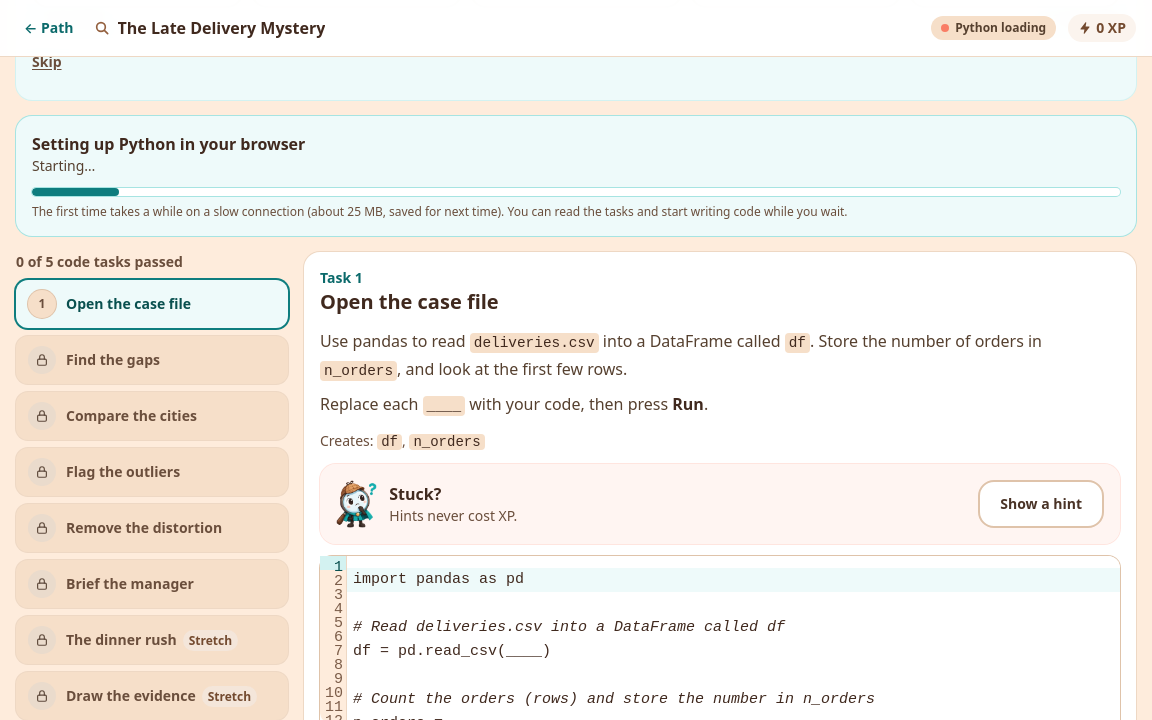
it: MissionWorkspace › keeps later tasks locked until the earlier ones pass
(page scrolled)
Click the button named "find the gaps, locked": (152, 360) 16,336 -> 288,384
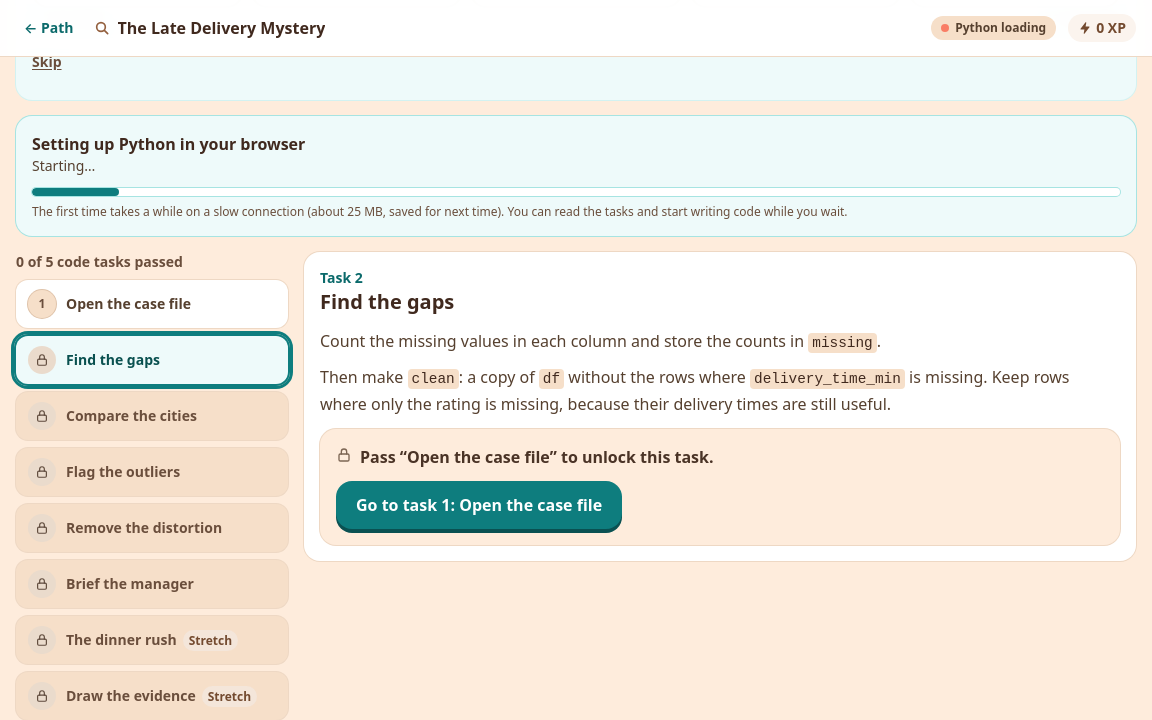
Result: the heading "Find the gaps" is shown at 320,288 -> 454,315
Result: the text "Pass “Open the case file” to unlock this task." is shown at 336,446 -> 714,468
Result: the text "Run" is gone
Click the button "Brief the manager": (152, 584) 16,560 -> 288,608
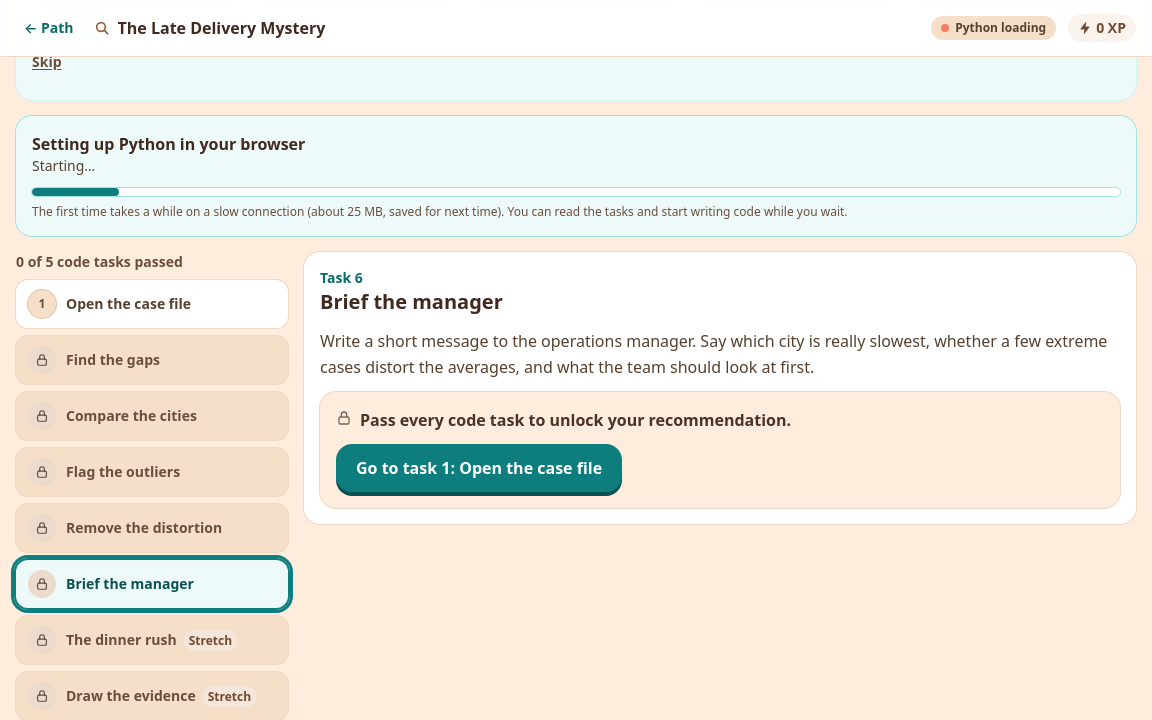
Result: the text "Pass every code task to unlock your recommendation." is shown at 336,409 -> 791,431
Click the button "Go to task 1: Open the case file": (479, 468) 336,444 -> 622,492
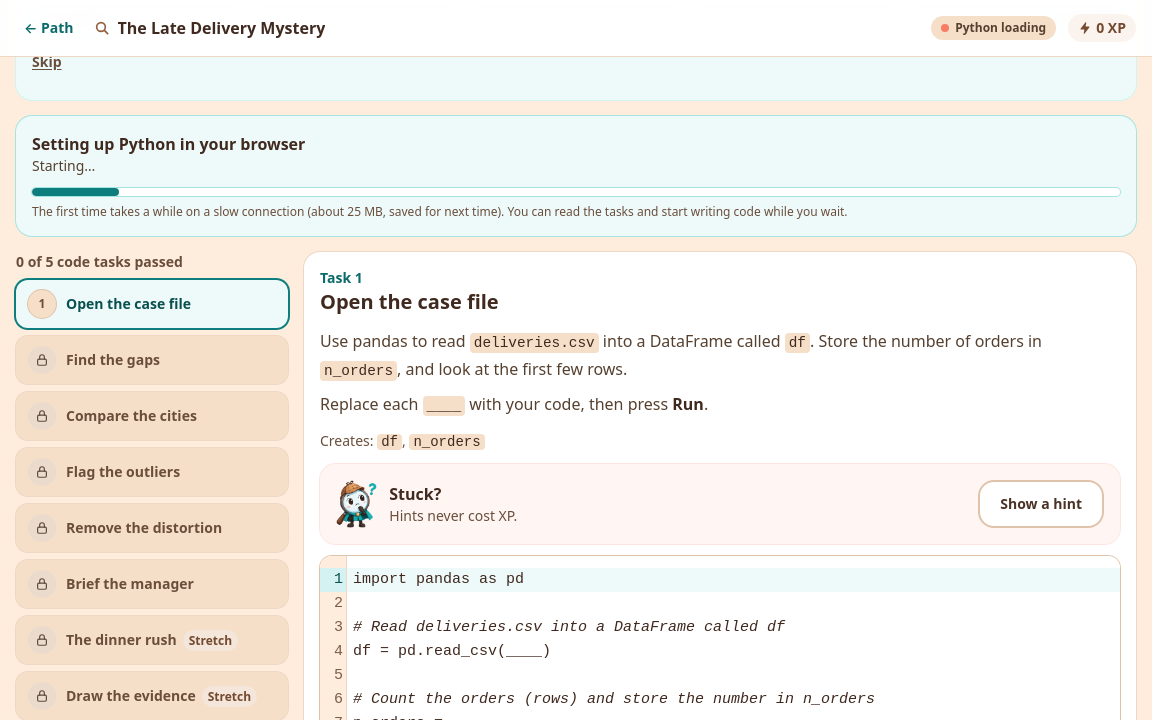
Result: the heading "Open the case file" is shown at 320,288 -> 499,315
